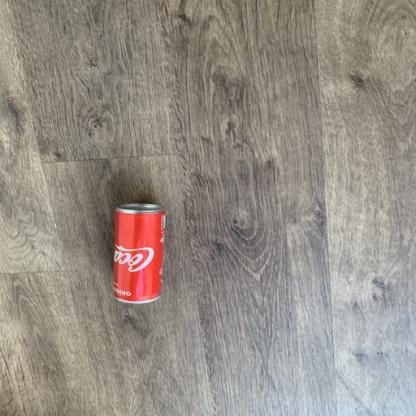Aerosols: (97, 197, 187, 318)
